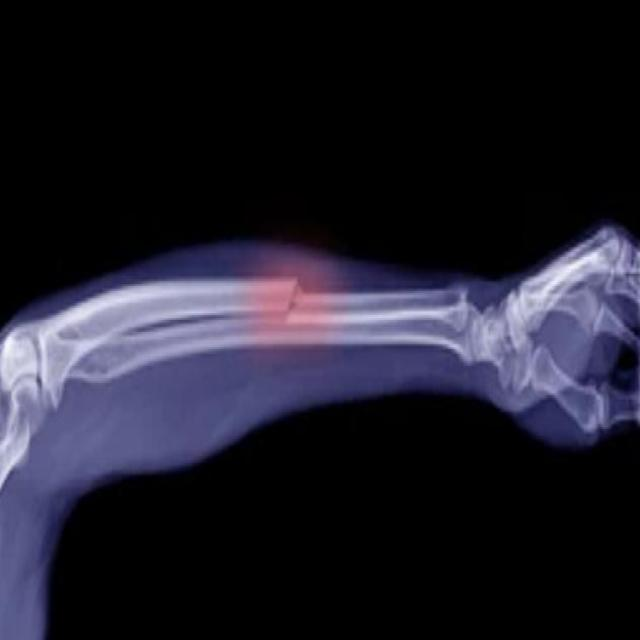bone: (263, 270, 316, 332)
